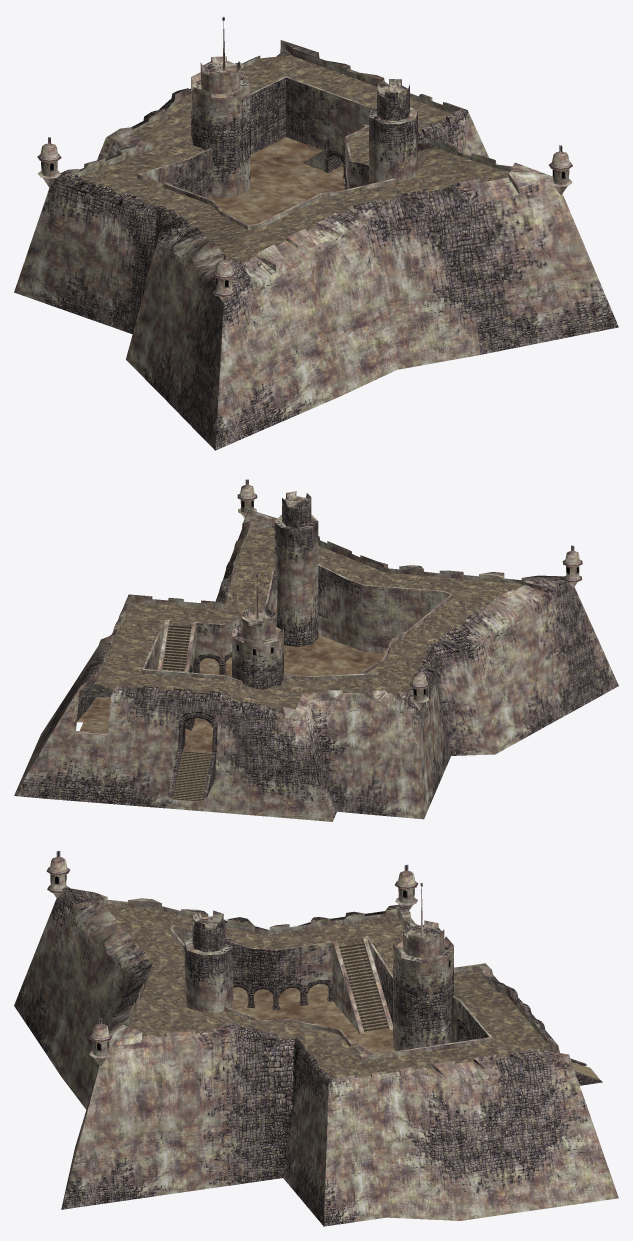
File: pir_m_bld_frt_kingsheadMid_interior.fbx
3 renders of one model, top to bottom at view 1: azimuth 30°, elevation 25°; view 2: azimuth 150°, elevation 25°; view 3: azimuth 270°, elevation 25°, orthographic. The views are drawn at different scales.
Parts seen in each view (by area): view 1: fort_medium:polySurface280, fort_mid_TopFloor, Int_walls8, tower11, LandSurface1, tower14, polySurface282, corner_tower2, corner_tower, corner_tower3; view 2: fort_medium:polySurface280, fort_mid_TopFloor, Int_walls8, tower14, LandSurface1, tower11, polySurface282, polySurface456, Stairs1, fort_mid_Interior_polySurface198, fort_mid_Interior_polySurface199, corner_tower; view 3: fort_medium:polySurface280, fort_mid_TopFloor, tower11, Int_walls8, tower14, LandSurface1, polySurface282, Stairs2, corner_tower3, corner_tower2, corner_tower.
Part boxes in pixels (x1=…): fort_medium:polySurface280: x1=14, y1=40, x2=618, y2=450; fort_mid_TopFloor: x1=80, y1=55, x2=509, y2=262; Int_walls8: x1=143, y1=77, x2=371, y2=199; tower11: x1=191, y1=56, x2=250, y2=198; LandSurface1: x1=210, y1=137, x2=345, y2=224; tower14: x1=369, y1=79, x2=417, y2=184; polySurface282: x1=137, y1=76, x2=395, y2=230; corner_tower2: x1=212, y1=260, x2=236, y2=302; corner_tower: x1=37, y1=143, x2=61, y2=187; corner_tower3: x1=549, y1=151, x2=572, y2=194; fort_medium:polySurface280: x1=14, y1=510, x2=618, y2=821; fort_mid_TopFloor: x1=95, y1=527, x2=522, y2=709; Int_walls8: x1=144, y1=565, x2=449, y2=674; tower14: x1=274, y1=491, x2=318, y2=646; LandSurface1: x1=79, y1=635, x2=384, y2=753; tower11: x1=232, y1=608, x2=283, y2=689; polySurface282: x1=142, y1=564, x2=452, y2=684; polySurface456: x1=171, y1=751, x2=211, y2=802; Stairs1: x1=162, y1=625, x2=191, y2=671; fort_mid_Interior_polySurface198: x1=77, y1=661, x2=195, y2=749; fort_mid_Interior_polySurface199: x1=77, y1=696, x2=190, y2=741; corner_tower: x1=409, y1=672, x2=429, y2=710; fort_medium:polySurface280: x1=14, y1=887, x2=618, y2=1226; fort_mid_TopFloor: x1=102, y1=904, x2=550, y2=1078; tower11: x1=393, y1=920, x2=453, y2=1050; Int_walls8: x1=172, y1=925, x2=489, y2=1051; tower14: x1=184, y1=910, x2=233, y2=1012; LandSurface1: x1=233, y1=983, x2=395, y2=1054; polySurface282: x1=169, y1=924, x2=492, y2=1061; Stairs2: x1=339, y1=943, x2=388, y2=1031; corner_tower3: x1=89, y1=1023, x2=112, y2=1065; corner_tower2: x1=46, y1=856, x2=70, y2=898; corner_tower: x1=394, y1=870, x2=418, y2=910.
Bounding box in the file's own units: 41066 × 19966 × 47403.
Materials: 7 (7 with a texture image).
